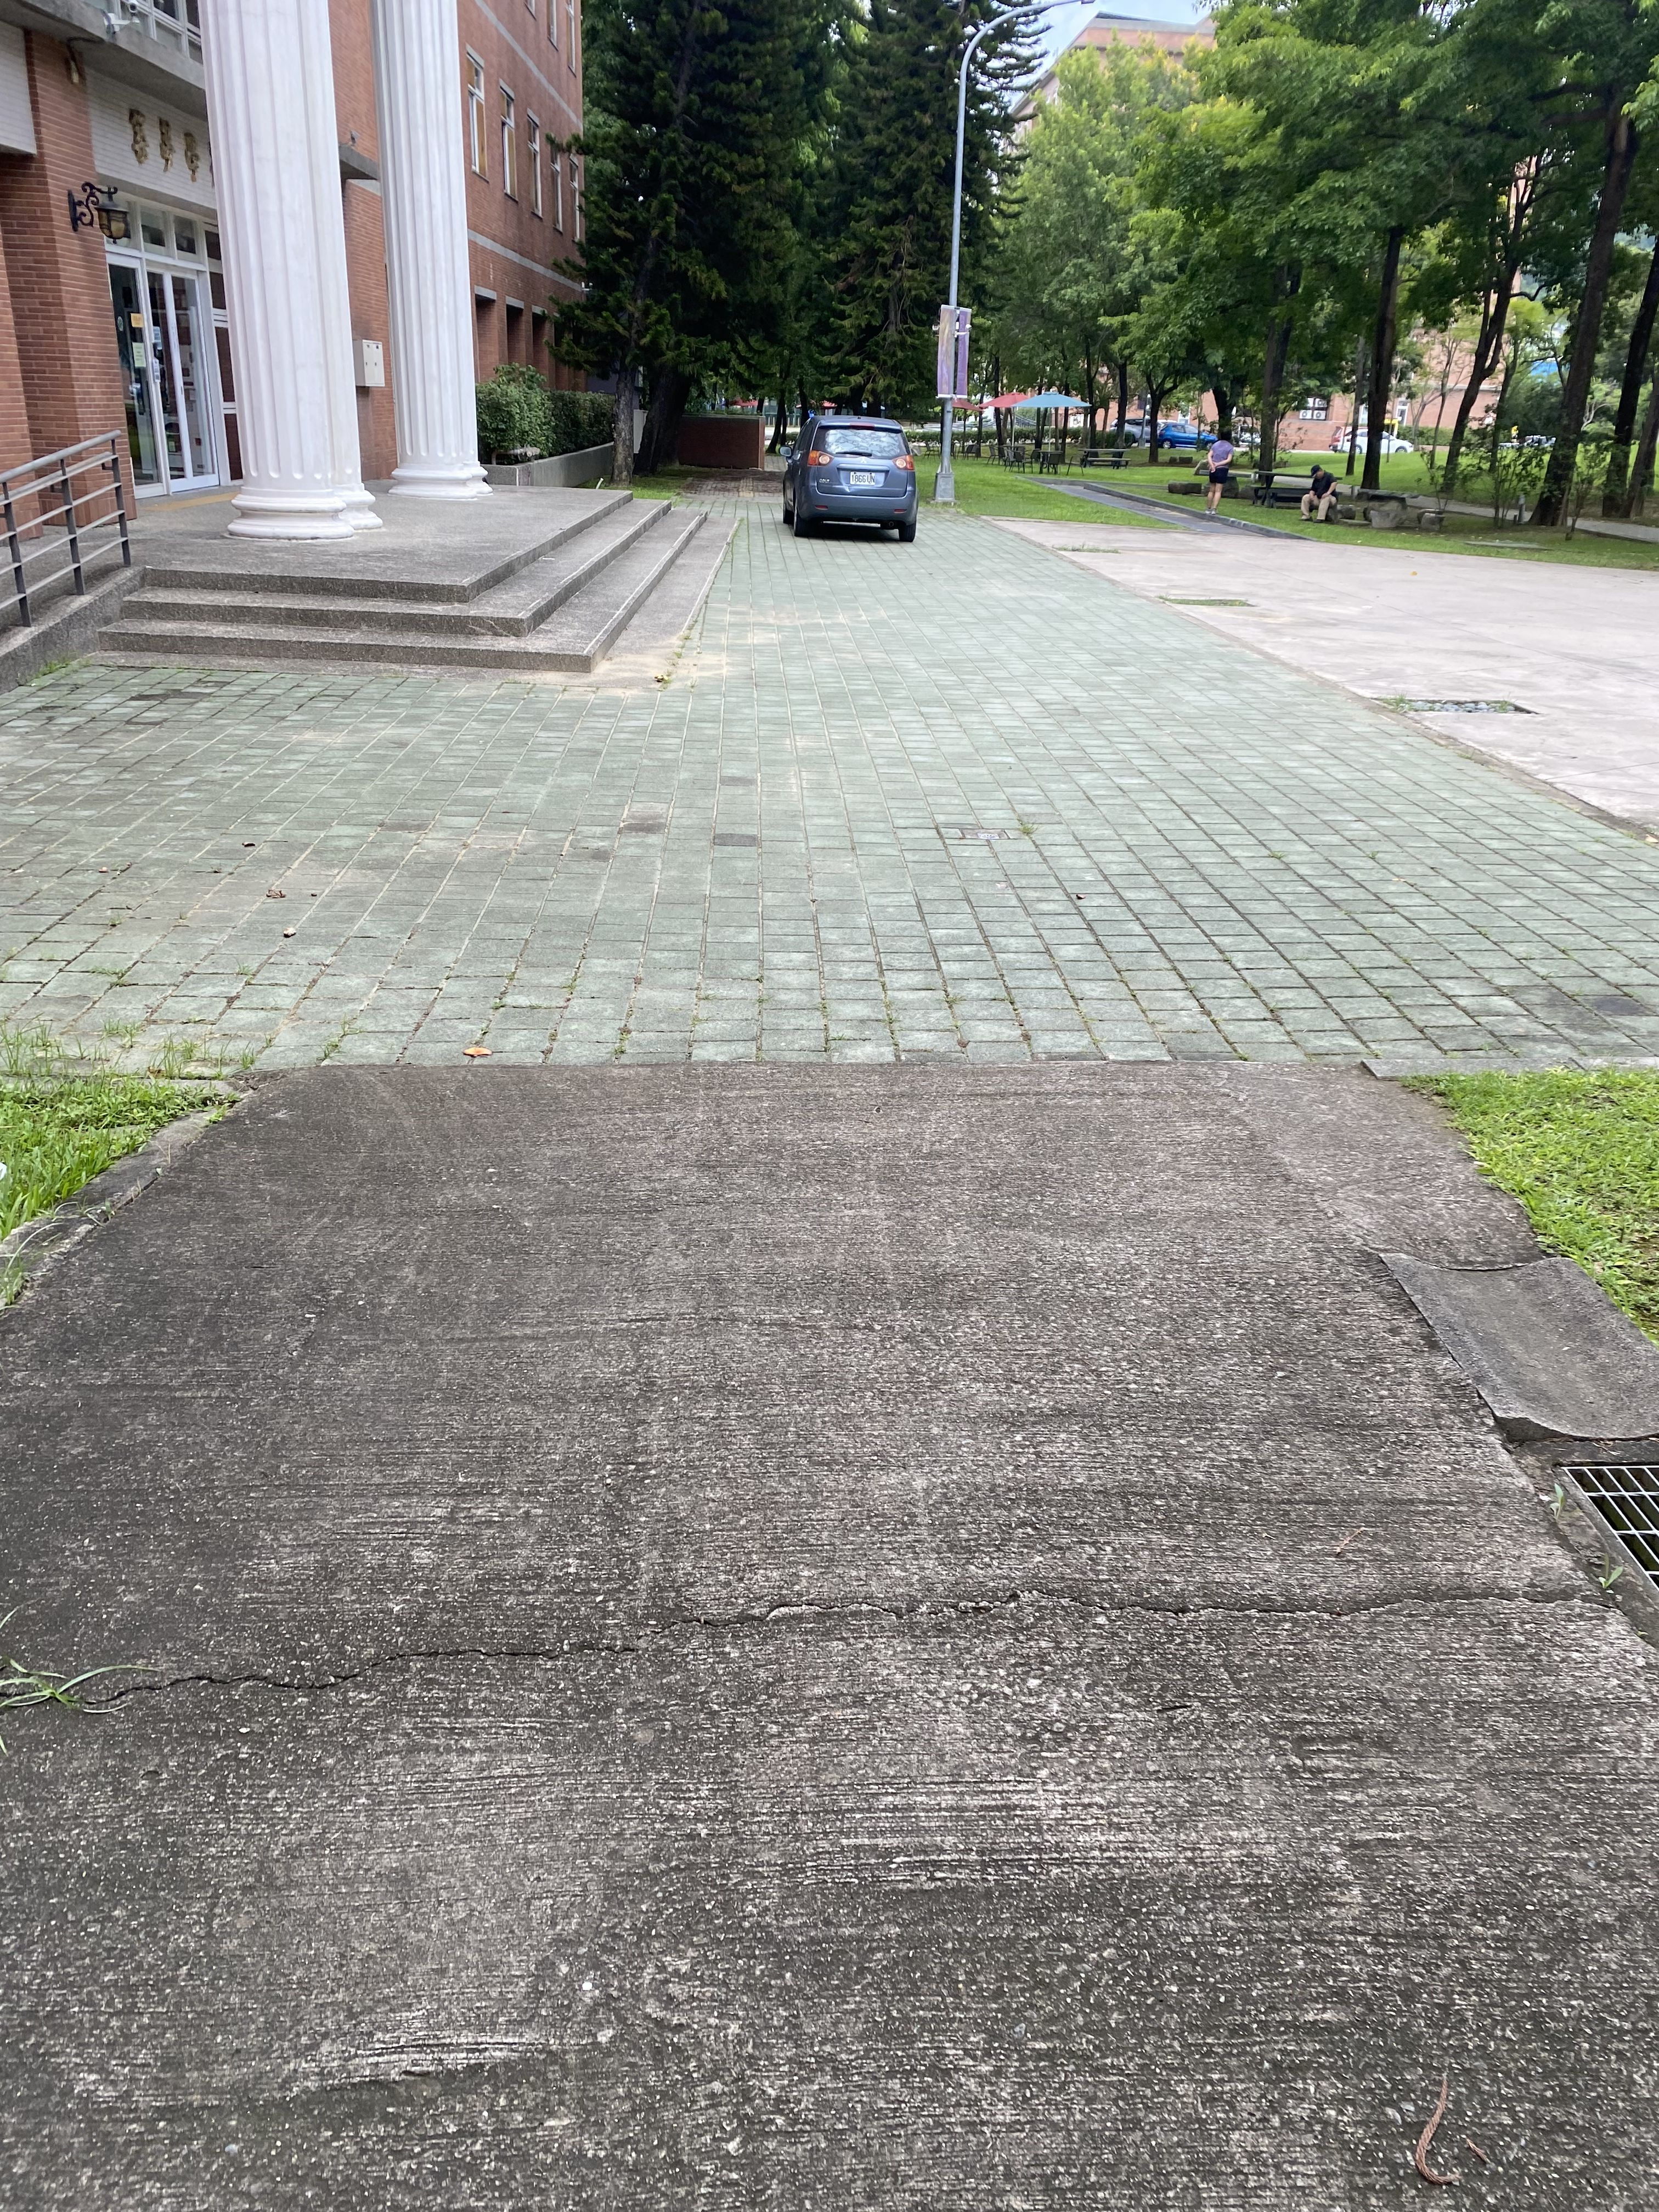sidewalk: (7, 453, 1654, 2212)
